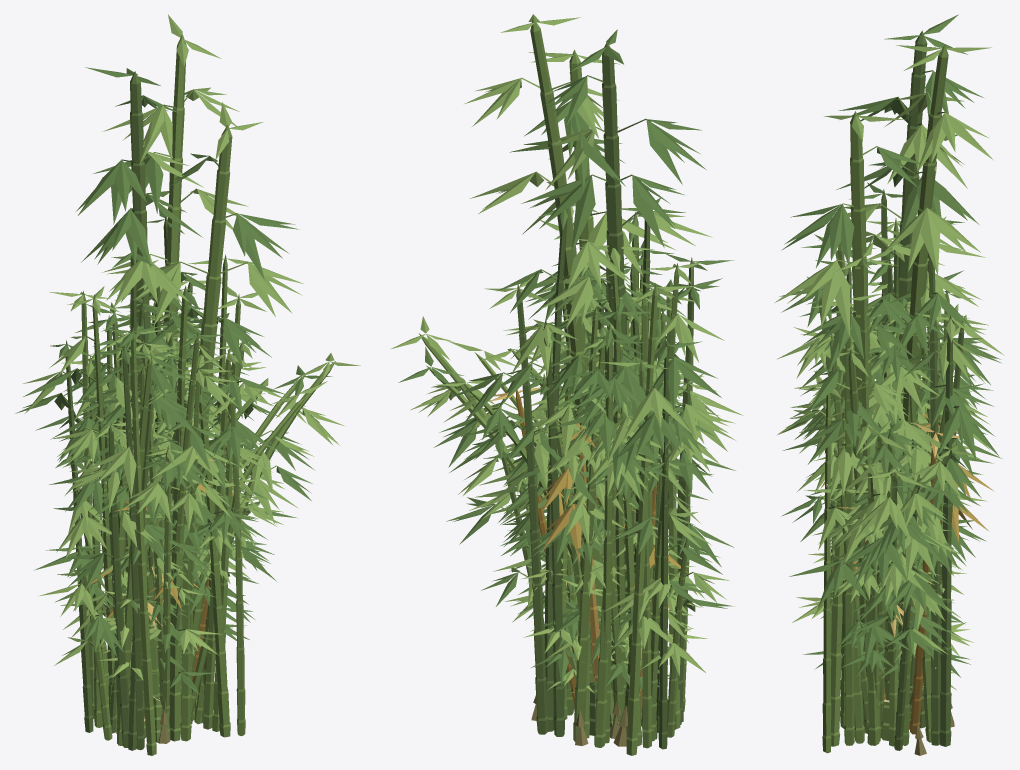
Rendered from Bamboo.fbx.
The picture shows the model from 3 angles, left to right: view 1: azimuth 30°, elevation 25°; view 2: azimuth 150°, elevation 25°; view 3: azimuth 270°, elevation 25°; orthographic projection. The views are drawn at different scales.
Parts seen in each view (by area): view 1: BambooStandC_Culm, BambooGiant_Leaf, BambooStandB_Culm, BambooStandA_Culm, BambooGiant_LeafLight, BambooGiant_Culm, BambooStandA_Leaf, BambooStandB_CulmAlt, BambooStandB_Leaf, BambooStandC_LeafLight, BambooStandC_Leaf, BambooThicket_Leaf (+21 smaller); view 2: BambooStandC_Culm, BambooGiant_Leaf, BambooGiant_LeafLight, BambooStandA_Culm, BambooStandB_CulmAlt, BambooGrove_Leaf, BambooStandA_Leaf, BambooGiant_Culm, BambooStandC_LeafLight, BambooStandC_Leaf, BambooStandA_CulmAlt, BambooArching_LeafLight (+23 smaller); view 3: BambooGiant_LeafLight, BambooGiant_Leaf, BambooArching_LeafLight, BambooGiant_Culm, BambooStandA_Culm, BambooStandA_Leaf, BambooStandB_Culm, BambooArching_Leaf, BambooThicket_Leaf, BambooStandC_LeafLight, BambooStandC_Leaf, BambooStandA_CulmAlt (+23 smaller).
Part boxes in pixels (x1,y1,x2,y2): BambooStandC_Culm: [62, 290, 230, 755]; BambooGiant_Leaf: [76, 67, 299, 369]; BambooStandB_Culm: [88, 343, 246, 741]; BambooStandA_Culm: [104, 254, 240, 745]; BambooGiant_LeafLight: [102, 14, 303, 325]; BambooGiant_Culm: [150, 34, 247, 581]; BambooStandA_Leaf: [62, 288, 285, 519]; BambooStandB_CulmAlt: [60, 302, 173, 750]; BambooStandB_Leaf: [15, 342, 257, 543]; BambooStandC_LeafLight: [23, 286, 272, 530]; BambooStandC_Leaf: [23, 208, 253, 494]; BambooThicket_Leaf: [34, 443, 297, 672]; BambooStandC_Culm: [566, 257, 693, 755]; BambooGiant_Leaf: [509, 29, 706, 363]; BambooGiant_LeafLight: [464, 14, 712, 328]; BambooStandA_Culm: [553, 212, 682, 745]; BambooStandB_CulmAlt: [535, 281, 694, 749]; BambooGrove_Leaf: [483, 240, 712, 565]; BambooStandA_Leaf: [448, 211, 696, 508]; BambooGiant_Culm: [521, 18, 606, 630]; BambooStandC_LeafLight: [506, 262, 724, 480]; BambooStandC_Leaf: [497, 198, 734, 474]; BambooStandA_CulmAlt: [503, 263, 683, 739]; BambooArching_LeafLight: [390, 316, 653, 565]; BambooGiant_LeafLight: [775, 45, 993, 338]; BambooGiant_Leaf: [781, 14, 983, 374]; BambooArching_LeafLight: [825, 420, 975, 605]; BambooGiant_Culm: [836, 44, 948, 626]; BambooStandA_Culm: [838, 243, 949, 745]; BambooStandA_Leaf: [790, 245, 999, 532]; BambooStandB_Culm: [818, 310, 943, 753]; BambooArching_Leaf: [819, 445, 993, 623]; BambooThicket_Leaf: [789, 473, 978, 678]; BambooStandC_LeafLight: [777, 216, 1004, 498]; BambooStandC_Leaf: [779, 182, 994, 505]; BambooStandA_CulmAlt: [853, 244, 959, 746].
Size of the model in its own units: 45.9 by 94.13 by 27.97.
